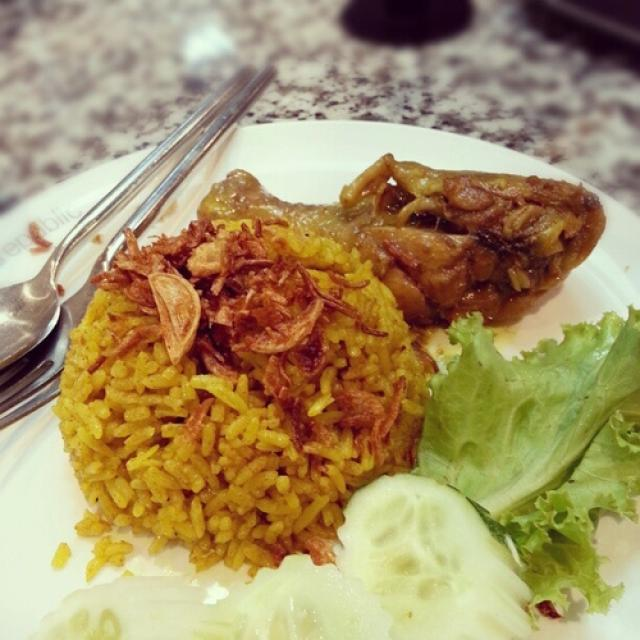米饭主食: (1, 8, 638, 628)
